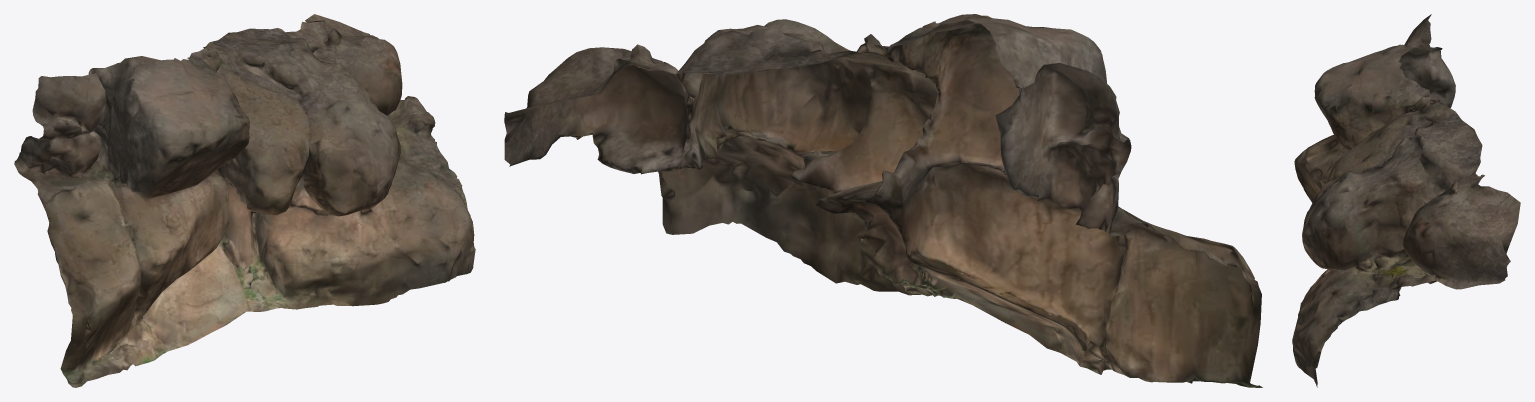
Rendered from namaqualand_cliff_01.glb.
3 renders of one model, left to right at view 1: azimuth 30°, elevation 25°; view 2: azimuth 150°, elevation 25°; view 3: azimuth 270°, elevation 25°, orthographic. The views are drawn at different scales.
Parts seen in each view (by area): view 1: drone_rock_01; view 2: drone_rock_01; view 3: drone_rock_01.
Part boxes in pixels (left/top/right/bottom): drone_rock_01: left=14, top=14, right=475, bottom=387; drone_rock_01: left=504, top=14, right=1262, bottom=387; drone_rock_01: left=1292, top=14, right=1520, bottom=387.
Size of the model in its own units: 8.28 by 4.96 by 4.39.
1 material, 1 textured.
